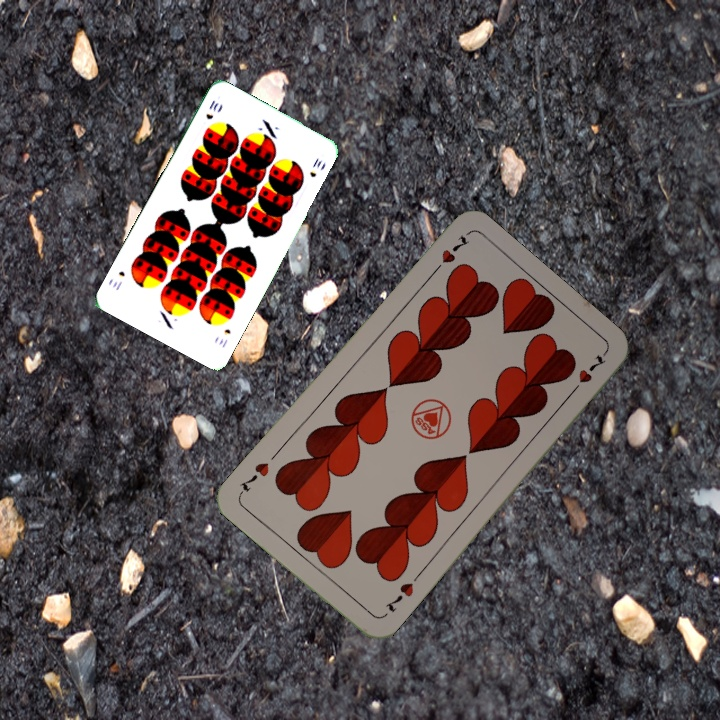H7: (427, 231, 471, 278), (380, 578, 416, 615)
S10: (202, 96, 221, 122), (215, 325, 233, 350)
